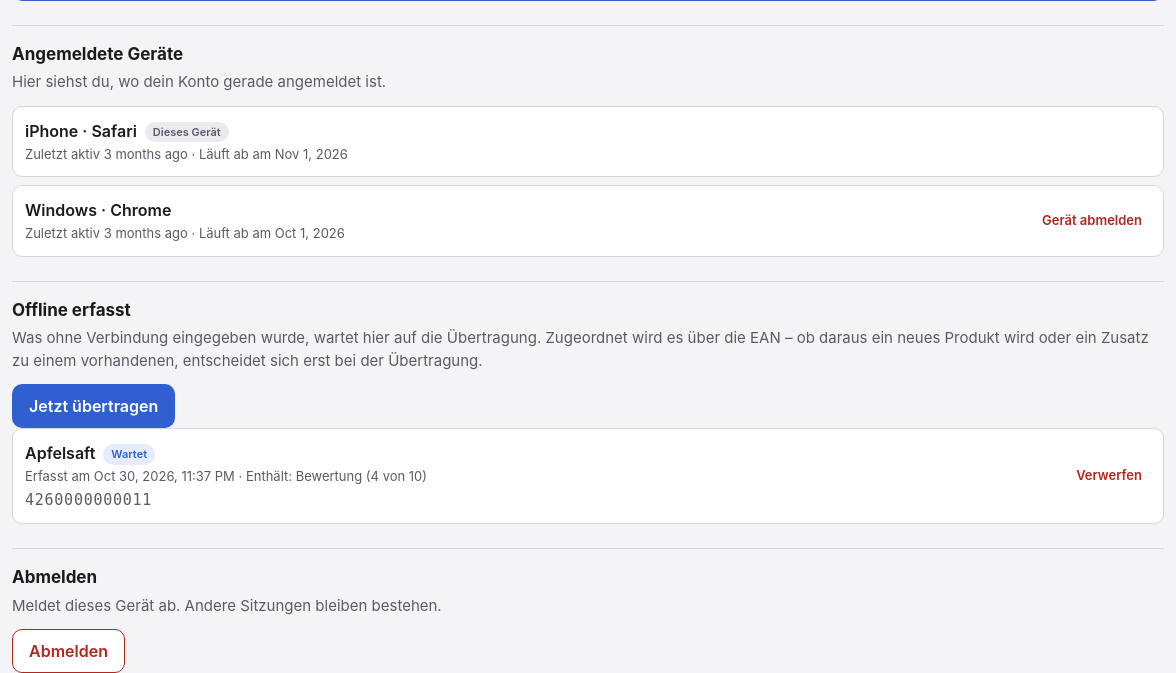
Test case: SettingsPage › lists what was captured offline and transfers it on request
The width and height of the screenshot is (1176, 673).
(page scrolled)
Check: the text "Apfelsaft" is shown, box [25,443,95,463]
Click the button "Jetzt übertragen".
click(94, 406)  # box [12,384,175,428]
(page scrolled)
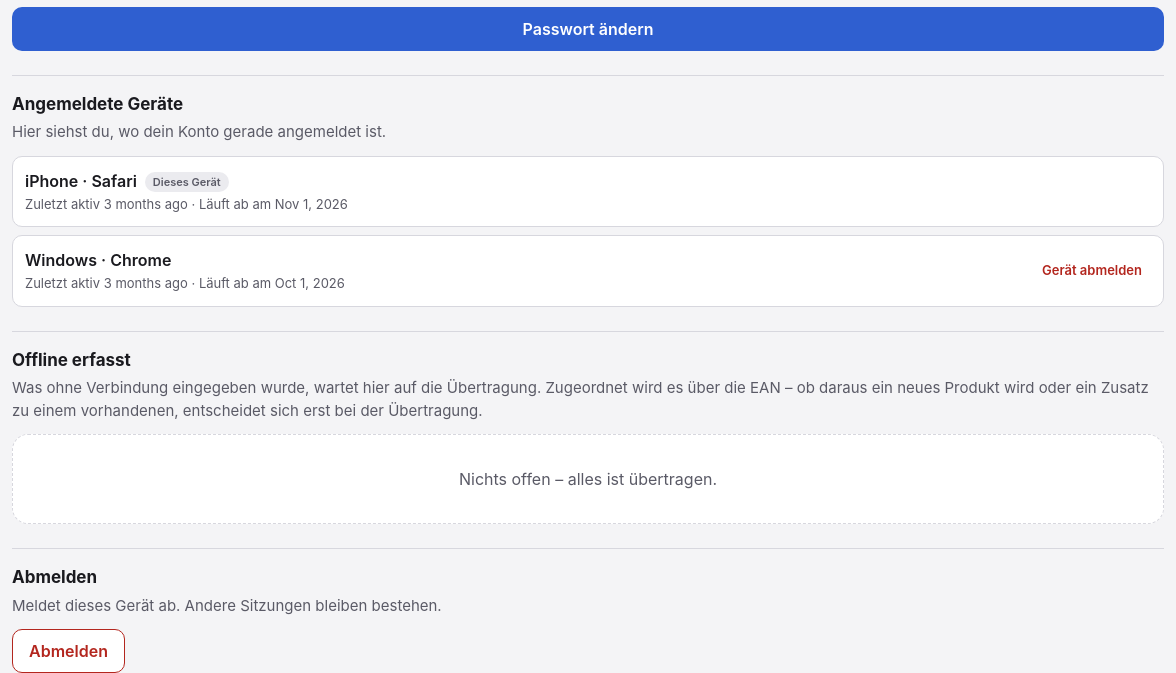
Check: the text "Nichts offen – alles ist übertragen." is shown, box [459,467,717,491]
